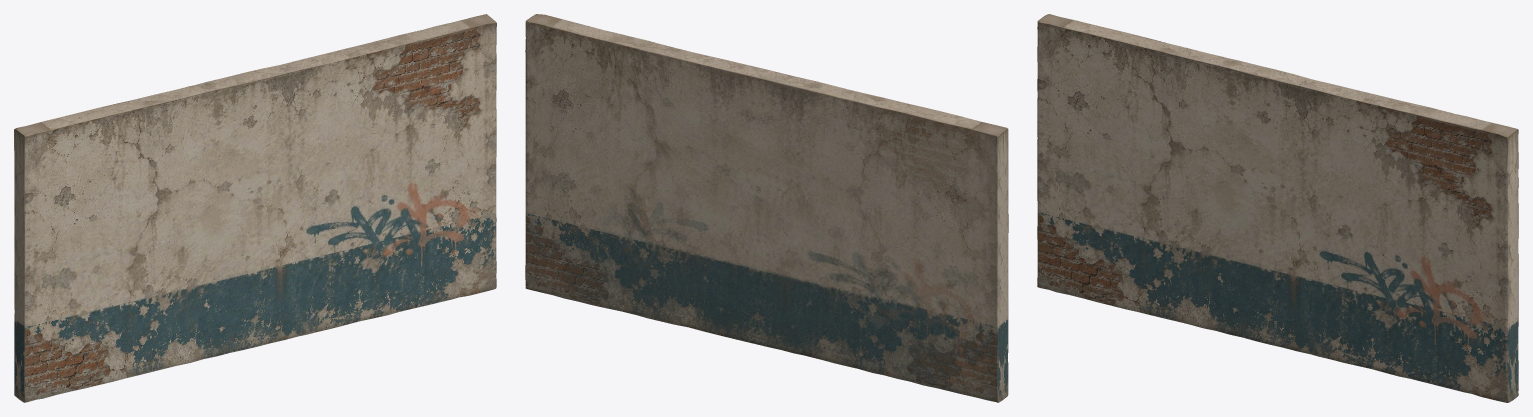
Rendered from wall.glb.
3 views of the same model, side by side, from view 1: azimuth 30°, elevation 25°; view 2: azimuth 150°, elevation 25°; view 3: azimuth 330°, elevation 25° (orthographic).
Parts seen in each view (by area): view 1: wall; view 2: wall; view 3: wall.
Boxes of the visible parts, <box> form: wall: <box>14,14,496,402</box>; wall: <box>525,14,1008,402</box>; wall: <box>1037,14,1518,402</box>.
Bounding box in the file's own units: 1 × 0.5453 × 0.0417.
1 material, 1 textured.
